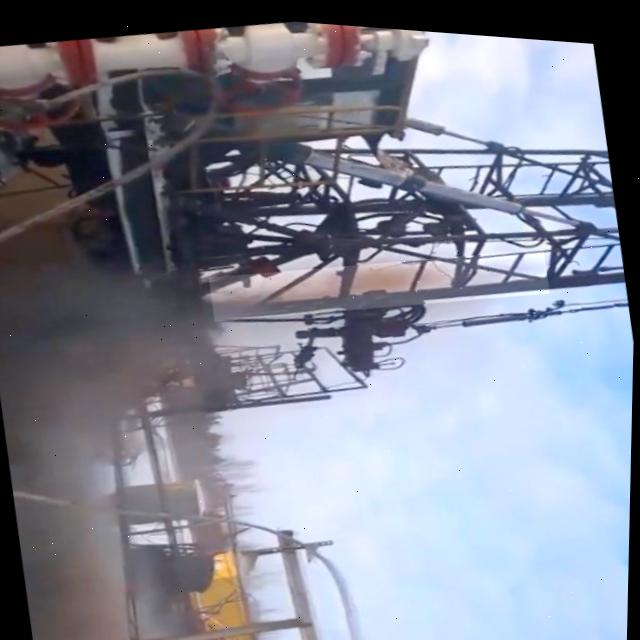spillage: (210, 242, 550, 318)
